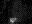person: (9, 18, 16, 23)
